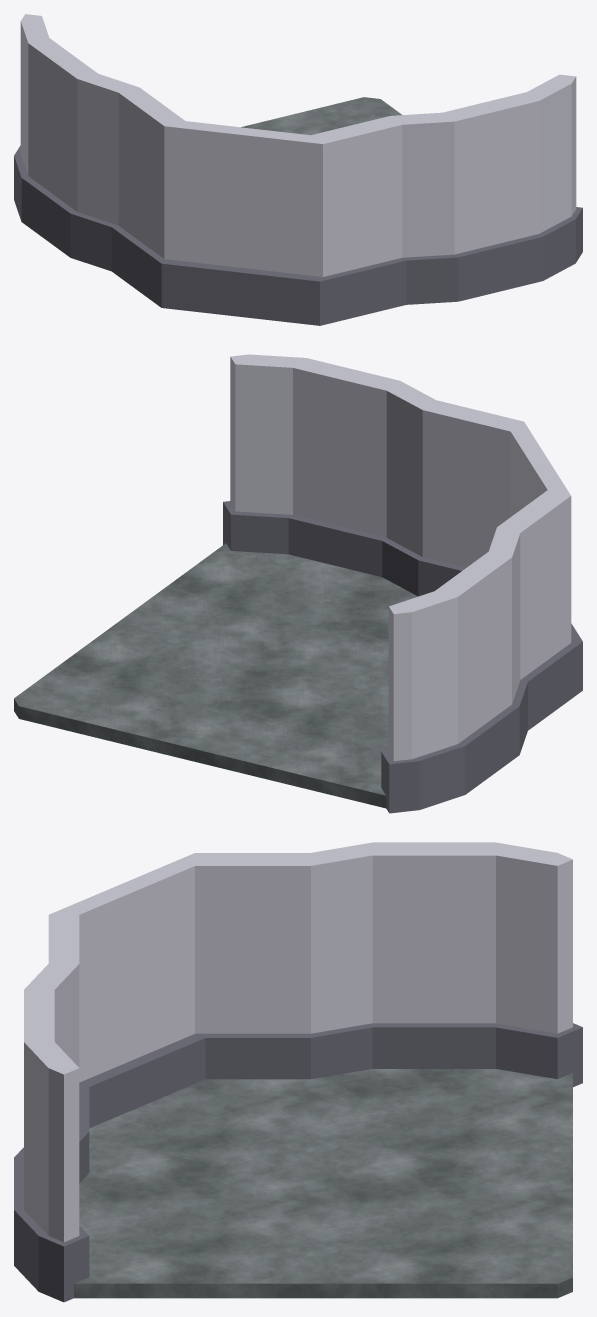
File: corner_06.fbx
The picture shows the model from 3 angles, top to bottom: view 1: azimuth 30°, elevation 25°; view 2: azimuth 150°, elevation 25°; view 3: azimuth 270°, elevation 25°; orthographic projection. The views are drawn at different scales.
Visible parts, largest first — view 1: corner_02_20, wall_03_21, wall_03_22, floor_square_18; view 2: wall_03_21, wall_03_22, corner_02_20, floor_square_18, floor_squareGallery%_19, floor_squareGallery%_17, floor_corner_15; view 3: wall_03_22, corner_02_20, floor_square_18, floor_squareGallery%_19, floor_squareGallery%_17, wall_03_21, floor_corner_15.
Boxes of the visible parts, <box> form: corner_02_20: <box>111,85,407,325</box>; wall_03_21: <box>386,74,582,304</box>; wall_03_22: <box>14,14,139,271</box>; floor_square_18: <box>241,97,401,135</box>; wall_03_21: <box>223,354,440,595</box>; wall_03_22: <box>381,527,527,813</box>; corner_02_20: <box>413,400,582,730</box>; floor_square_18: <box>14,617,330,764</box>; floor_squareGallery%_19: <box>123,543,416,672</box>; floor_squareGallery%_17: <box>202,663,388,808</box>; floor_corner_15: <box>310,592,417,690</box>; wall_03_22: <box>296,842,582,1087</box>; corner_02_20: <box>48,853,326,1131</box>; floor_square_18: <box>295,1172,572,1298</box>; floor_squareGallery%_19: <box>74,1166,326,1298</box>; floor_squareGallery%_17: <box>295,1069,572,1173</box>; wall_03_21: <box>14,957,89,1302</box>; floor_corner_15: <box>89,1077,326,1172</box>.
Bounding box in the file's own units: 23.05 × 10 × 23.05.
